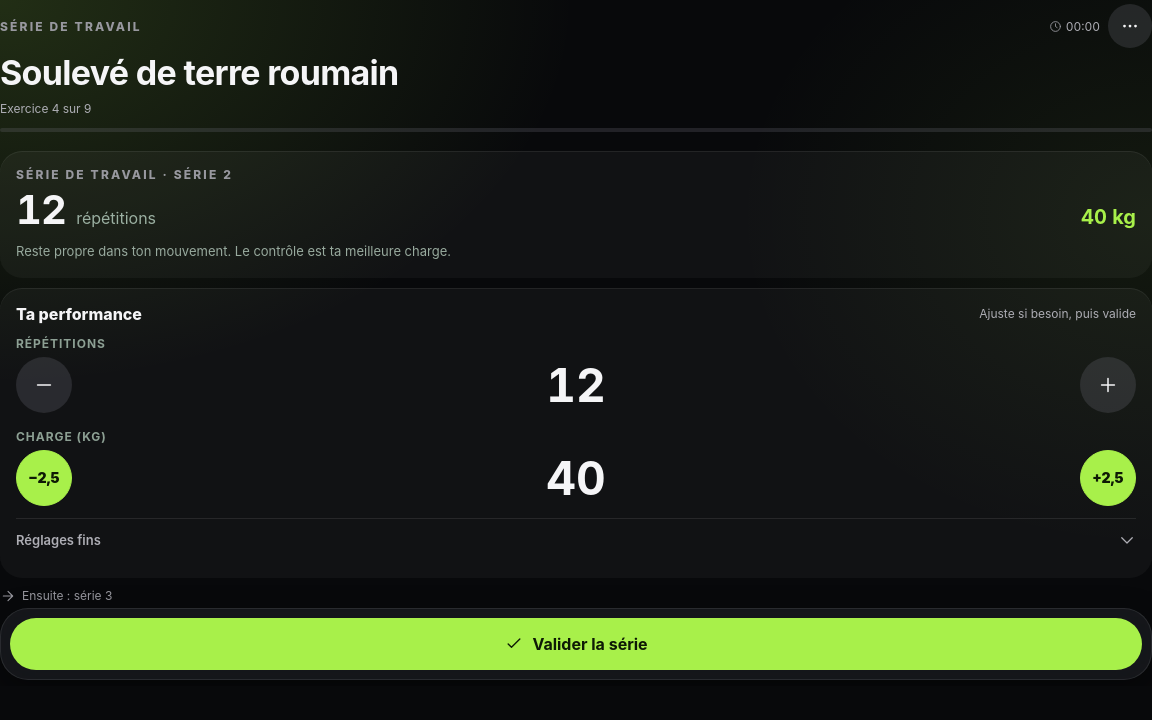
Scenario: WorkoutScreen input ergonomics › keeps secondary actions in the « Plus d’options » sheet
Expected: the button "je ne peux pas faire cet exercice" is not shown
Click the button named "Plus d’options": {"x": 1130, "y": 26} [1108,4,1151,48]
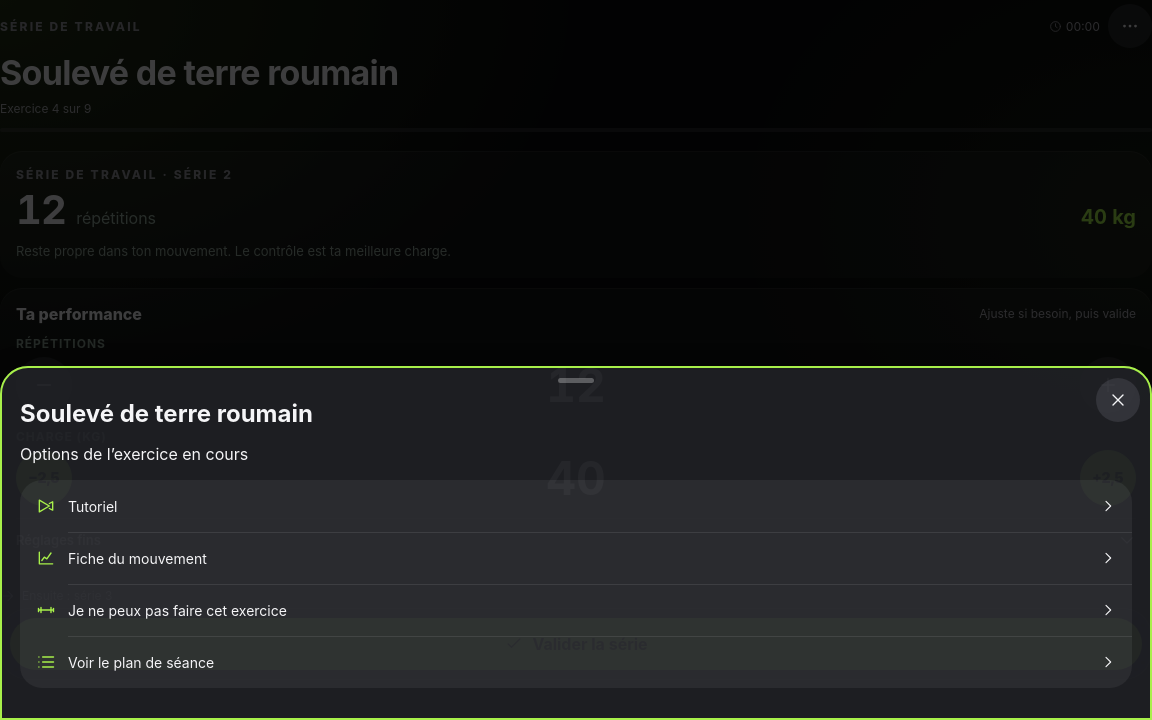
Now the button "Je ne peux pas faire cet exercice" is shown, box [20,584,1132,636]
Now the button "Voir le plan de séance" is shown, box [20,636,1132,688]
